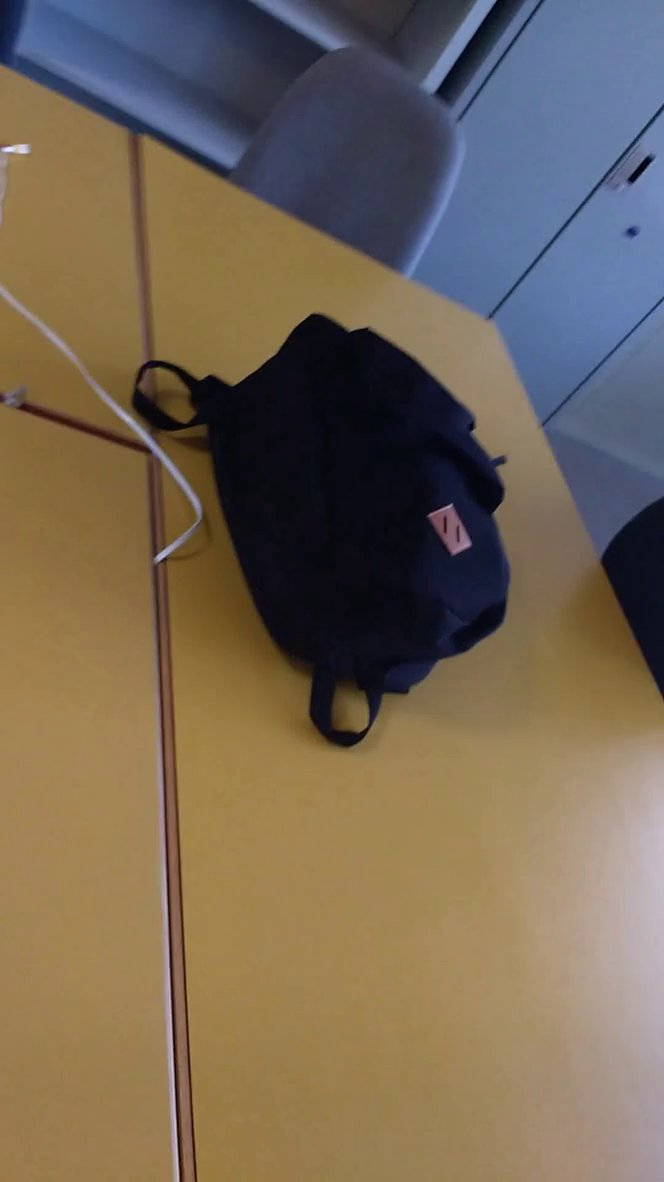bag: (125, 305, 523, 762)
chair: (226, 19, 477, 309)
